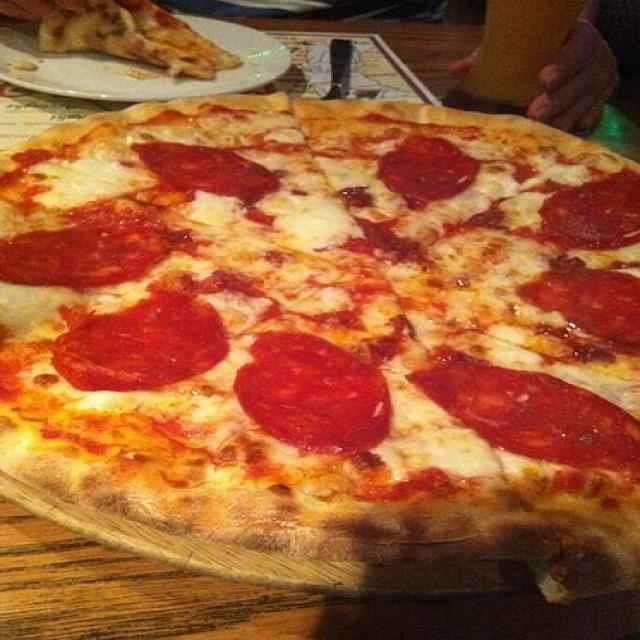Wet Waste: (4, 96, 640, 558)
